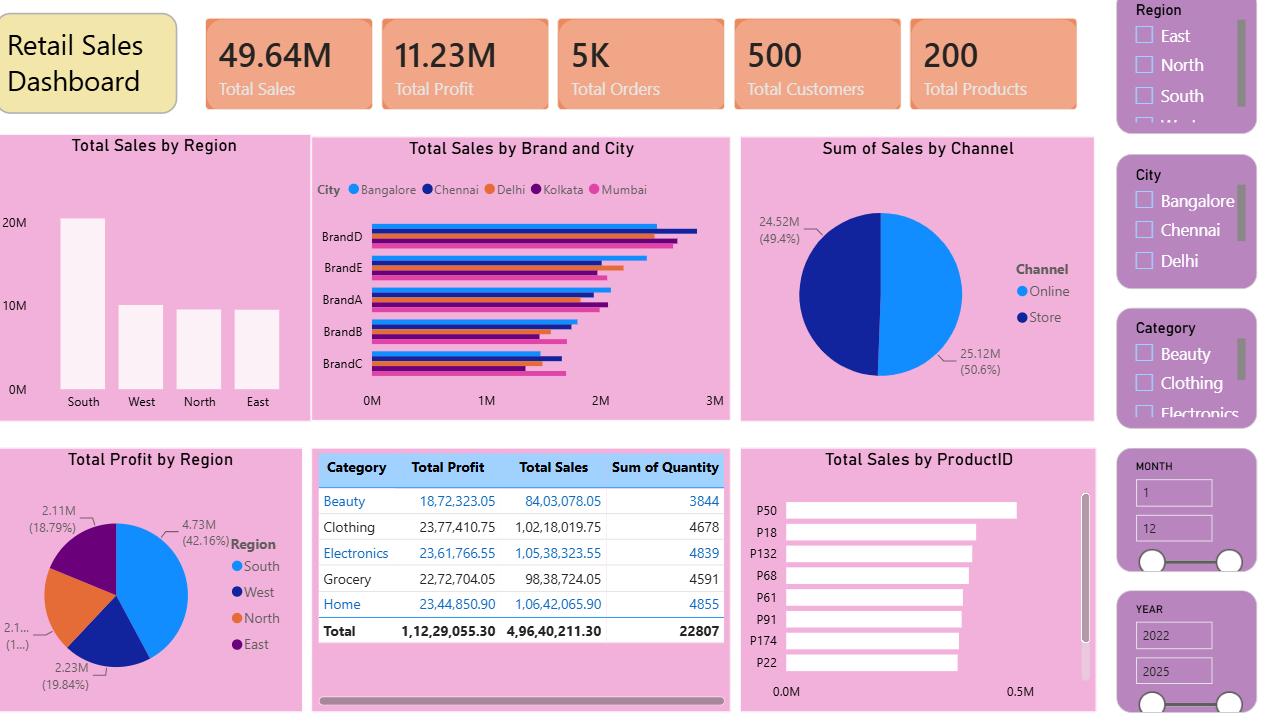

The page's visual inventory and layout, read from the dashboard file:
{"tool":"powerbi","page":{"name":"Overview","canvas":[1280,720],"ordinal":0},"visuals":[{"type":"slicer","fields":{"Values":["Dim Customer.Region"]},"box":[1105.7,10,135.7,140],"z":0},{"type":"slicer","fields":{"Values":["Dim Product.Category"]},"box":[1105.7,317.1,135.7,117.1],"z":1000},{"type":"slicer","fields":{"Values":["Dim Calender.MONTH"]},"box":[1105.7,452.9,135.7,120],"z":2000},{"type":"slicer","fields":{"Values":["Dim Calender.YEAR"]},"box":[1105.7,590,135.7,118.6],"z":3000},{"type":"slicer","fields":{"Values":["Dim Customer.City"]},"box":[1105.7,168.6,135.7,130],"z":4000},{"type":"textbox","box":[24.7,32.9,175.6,97.4],"z":5000},{"type":"cardVisual","fields":{"Data":["Fact Sales.Total Sales","Fact Sales.Total Profit","Fact Sales.Total Orders","Fact Sales.Total Customers","Fact Sales.Total Products"]},"box":[209.9,20.6,876.8,123.5],"z":6000},{"type":"columnChart","title":"Total Sales by Region","fields":{"Category":["Dim Customer.Region"],"Y":["Sum(Fact Sales.Sales)"]},"box":[25,150,303.8,277.5],"z":7000},{"type":"pieChart","fields":{"Category":["Dim Customer.Region"],"Y":["Fact Sales.Total Profit"]},"box":[25,452.5,296.2,255],"z":8000},{"type":"clusteredBarChart","fields":{"Category":["Dim Product.Brand"],"Series":["Dim Customer.City"],"Y":["Fact Sales.Total Sales"]},"box":[329.3,152.3,404.8,274.4],"z":9000},{"type":"tableEx","fields":{"Values":["Dim Product.Category","Fact Sales.Total Profit","Fact Sales.Total Sales","Sum(Fact Sales.Quantity)"]},"box":[329.3,452.8,404.8,255.2],"z":10000},{"type":"pieChart","fields":{"Category":["Dim Store.Channel"],"Y":["Sum(Fact Sales.Sales)"]},"box":[743.8,152.5,342.5,275],"z":11000},{"type":"barChart","fields":{"Category":["Dim Product.ProductID"],"Y":["Fact Sales.Total Sales"]},"box":[743.7,452.8,344,255],"z":12000}]}

Visuals, with their boxes in screenshot pixels (x1, y1, x2, y2), scaled from the page's 1280x720 canvas onto the 1265x721 screenshot:
slicer - Dim Customer.Region: crop(1093, 10, 1227, 150)
slicer - Dim Product.Category: crop(1093, 318, 1227, 435)
slicer - Dim Calender.MONTH: crop(1093, 454, 1227, 574)
slicer - Dim Calender.YEAR: crop(1093, 591, 1227, 710)
slicer - Dim Customer.City: crop(1093, 169, 1227, 299)
textbox: crop(24, 33, 198, 130)
cardVisual - Fact Sales.Total Sales x Fact Sales.Total Profit: crop(207, 21, 1074, 144)
"Total Sales by Region" columnChart: crop(25, 150, 325, 428)
pieChart - Dim Customer.Region x Fact Sales.Total Profit: crop(25, 453, 317, 708)
clusteredBarChart - Dim Product.Brand x Dim Customer.City: crop(325, 153, 725, 427)
tableEx - Dim Product.Category x Fact Sales.Total Profit: crop(325, 453, 725, 709)
pieChart - Dim Store.Channel x Sum(Fact Sales.Sales): crop(735, 153, 1074, 428)
barChart - Dim Product.ProductID x Fact Sales.Total Sales: crop(735, 453, 1075, 709)
